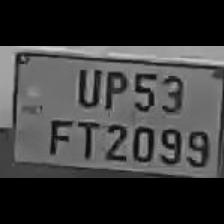0: (128, 119, 154, 162)
2: (100, 118, 126, 162)
3: (157, 66, 185, 114)
5: (128, 64, 158, 112)
9: (184, 124, 210, 166), (156, 123, 182, 163)
F: (44, 113, 74, 156)
P: (100, 64, 128, 112)
T: (72, 116, 100, 160)
U: (71, 61, 102, 109)
